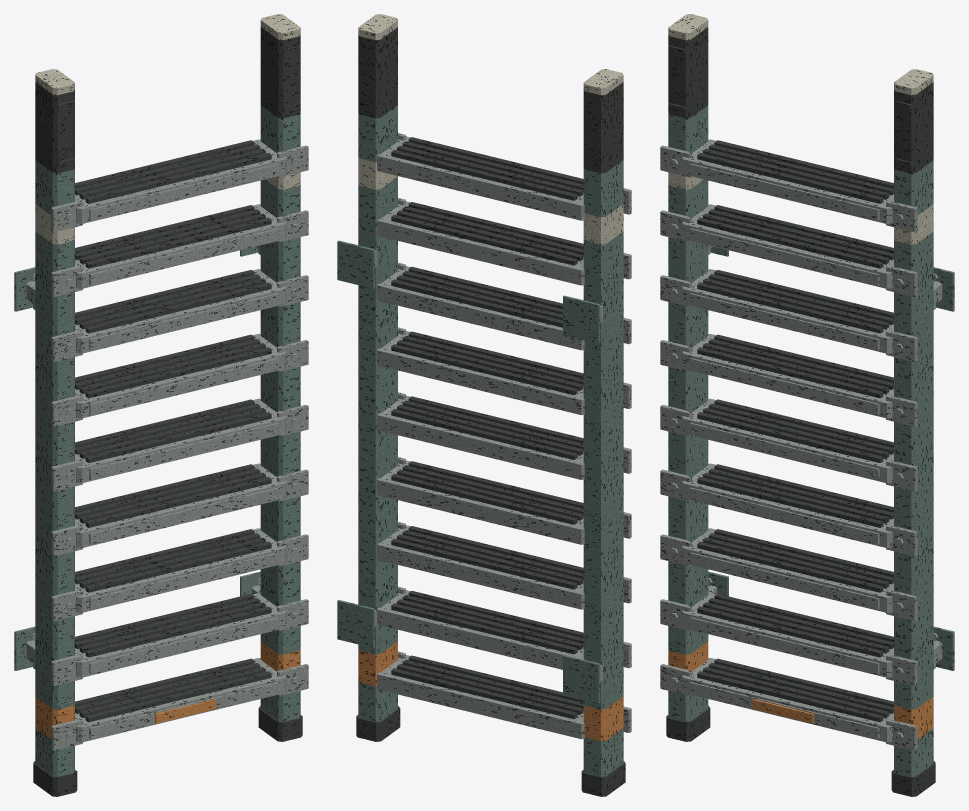
File: roof_ladder.glb
The picture shows the model from 3 angles, left to right: view 1: azimuth 30°, elevation 25°; view 2: azimuth 150°, elevation 25°; view 3: azimuth 330°, elevation 25°; orthographic projection.
Visible parts, largest first — view 1: roof_ladder; view 2: roof_ladder; view 3: roof_ladder.
Boxes of the visible parts, box(x1,y1,x2,y2) form: roof_ladder: box(14, 14, 308, 796); roof_ladder: box(337, 14, 631, 796); roof_ladder: box(660, 14, 954, 796).
Size of the model in its own units: 1 by 2.58 by 0.27.
5 materials, 5 textured.
